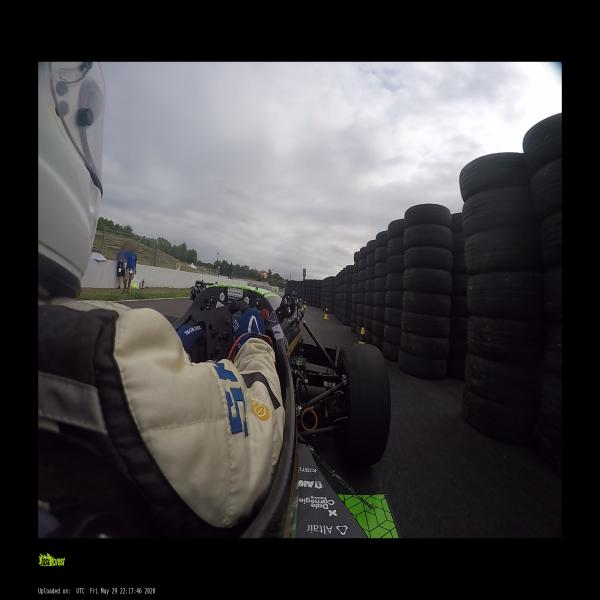yellow_cone: (359, 327, 366, 344), (323, 307, 329, 320), (304, 301, 307, 308)
